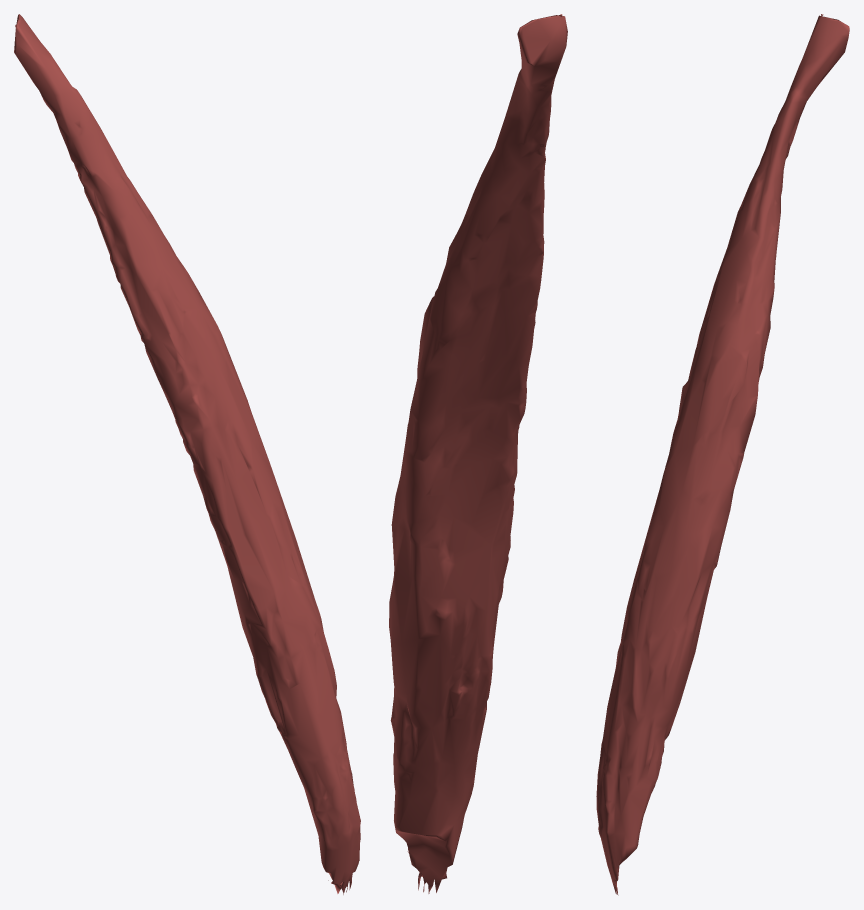
File: FMA37398.glb
3 renders of one model, left to right at view 1: azimuth 30°, elevation 25°; view 2: azimuth 150°, elevation 25°; view 3: azimuth 270°, elevation 25°, orthographic. The views are drawn at different scales.
Parts seen in each view (by area): view 1: FMA37398; view 2: FMA37398; view 3: FMA37398.
Boxes of the visible parts, x1=… form: FMA37398: x1=14, y1=14, x2=360, y2=894; FMA37398: x1=389, y1=14, x2=567, y2=893; FMA37398: x1=596, y1=14, x2=849, y2=895.
Bounding box in the file's own units: 0.018 × 0.0602 × 0.0176.
